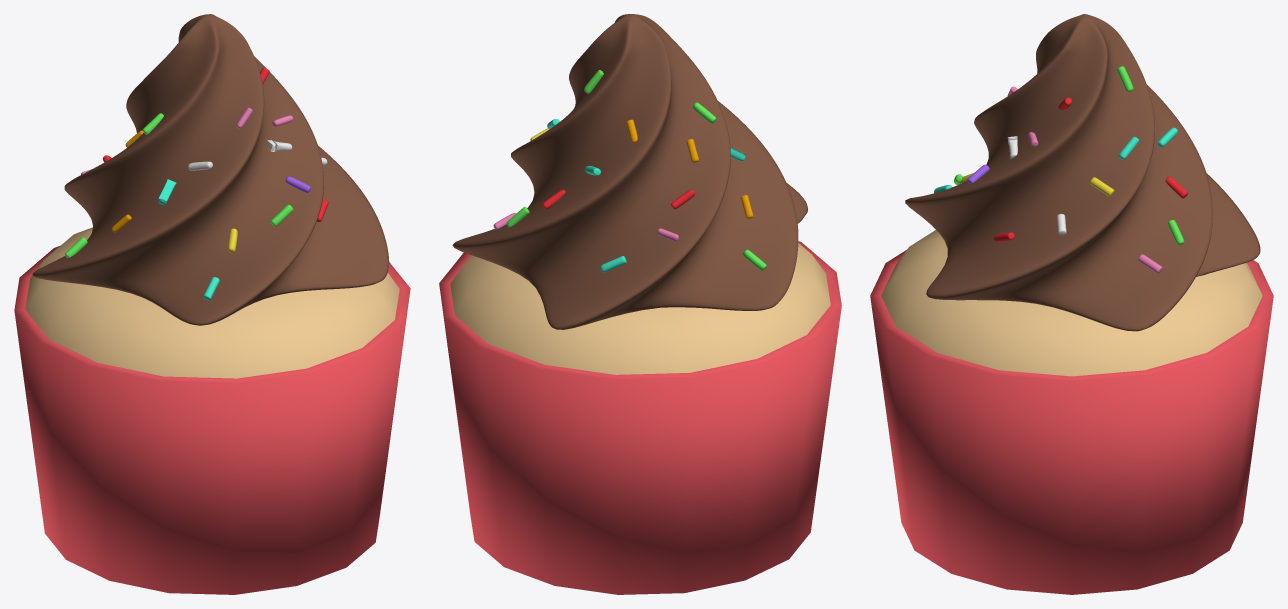
The model's file is cupcake 1.fbx.
3 views of the same model, side by side, from view 1: azimuth 30°, elevation 25°; view 2: azimuth 150°, elevation 25°; view 3: azimuth 270°, elevation 25° (orthographic).
Parts seen in each view (by area): view 1: Circle, Circle.003; view 2: Circle, Circle.003; view 3: Circle, Circle.003.
Part boxes in pixels (box(x1,y1,x2,y2)): Circle: box(14, 227, 410, 594); Circle.003: box(32, 14, 389, 325); Circle: box(439, 241, 841, 594); Circle.003: box(452, 14, 807, 329); Circle: box(870, 230, 1273, 594); Circle.003: box(905, 14, 1260, 331).
Bounding box in the file's own units: 2 × 2.78 × 2.
Materials: 10 (1 with a texture image).
